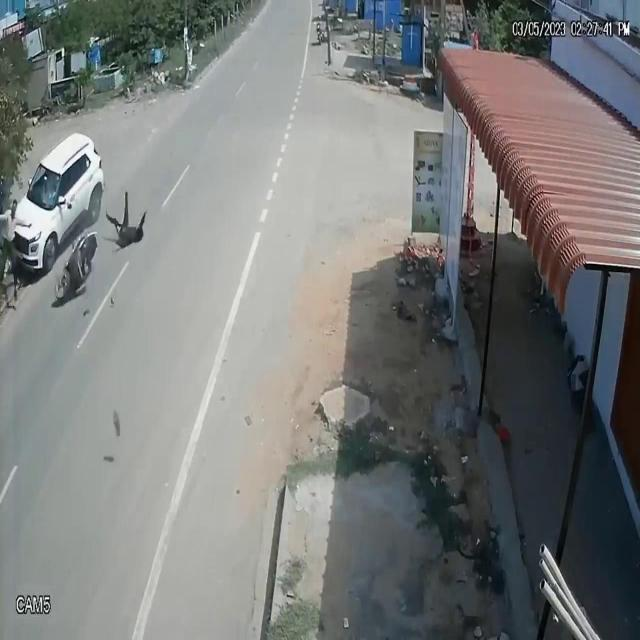accident: (0, 130, 152, 316)
